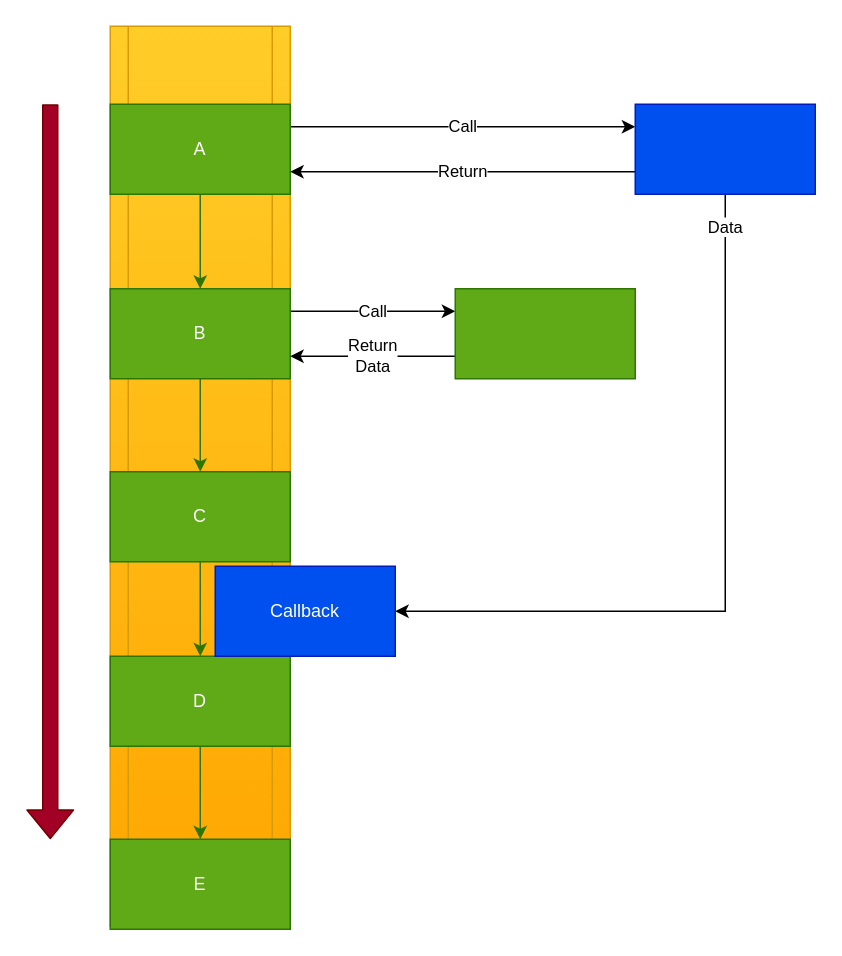
Some shapes in this 842 by 956 pixel diagram are drawn without their labels. The shapes that lost their labels are listed below. From the top down, each one's box as (x1, y1, x2, y2) in pixels, then its label:
(634, 103, 815, 194): Async Function
(454, 287, 635, 379): Function P()
(109, 25, 290, 926): Statements
